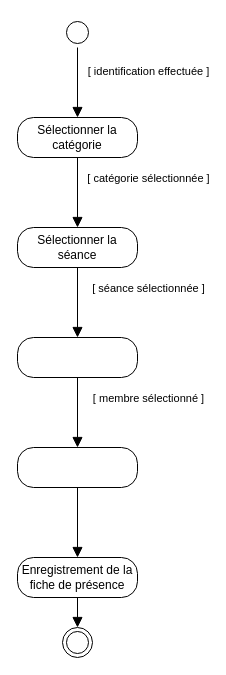
This 226x675 diagram has some shape labels left out. Here are the shapes that lost their labels. From the top down, the centre of each, then its label:
At [77,357]: "Sélectionner d'un membre".
At [77,467]: "Mise à jour de la présence".
